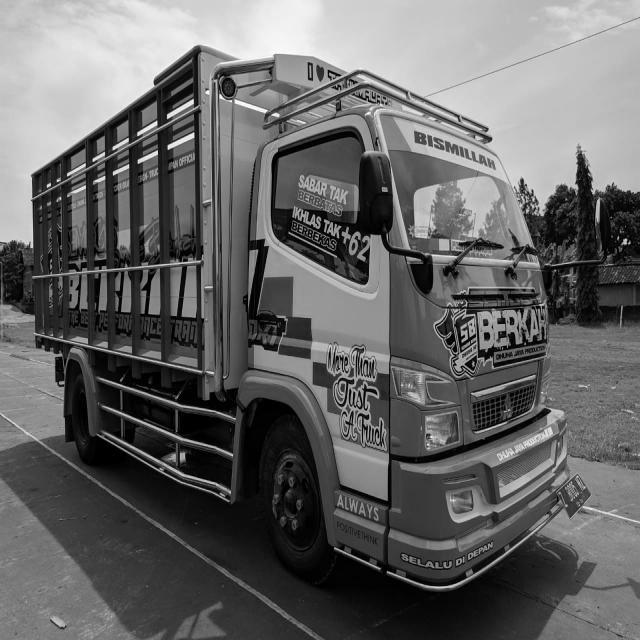truck: (214, 83, 594, 597)
